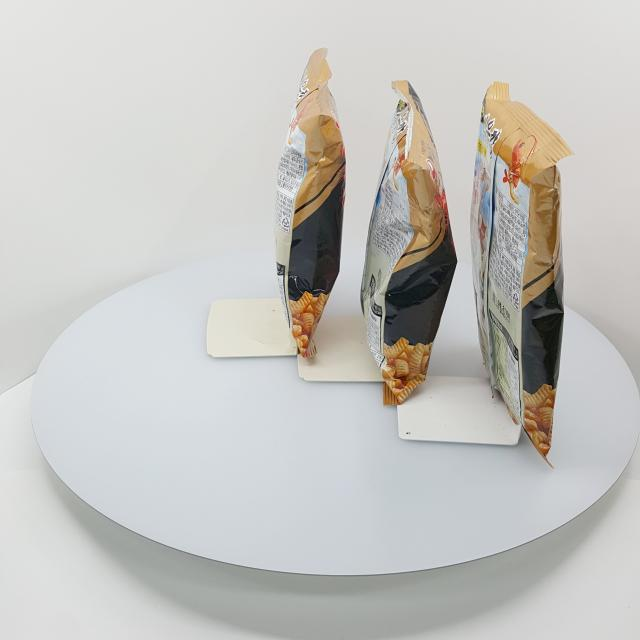-90G: (470, 82, 576, 470), (360, 80, 459, 407), (274, 48, 347, 359)
